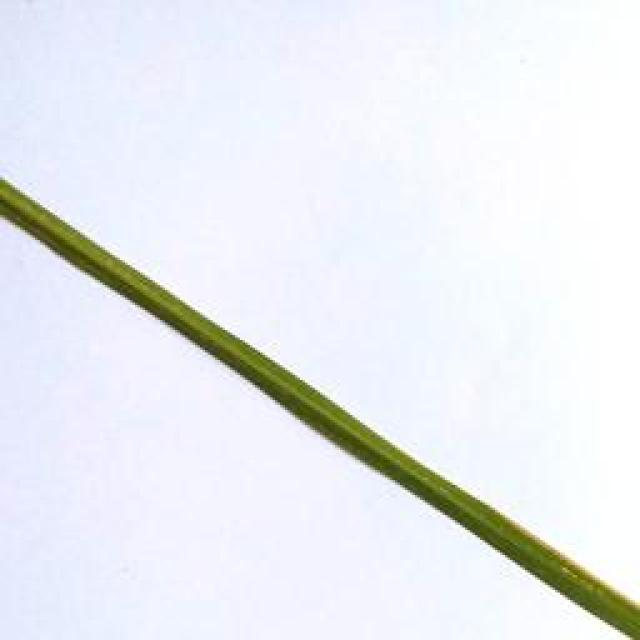Bacterial_Blight: (475, 498, 640, 604)
